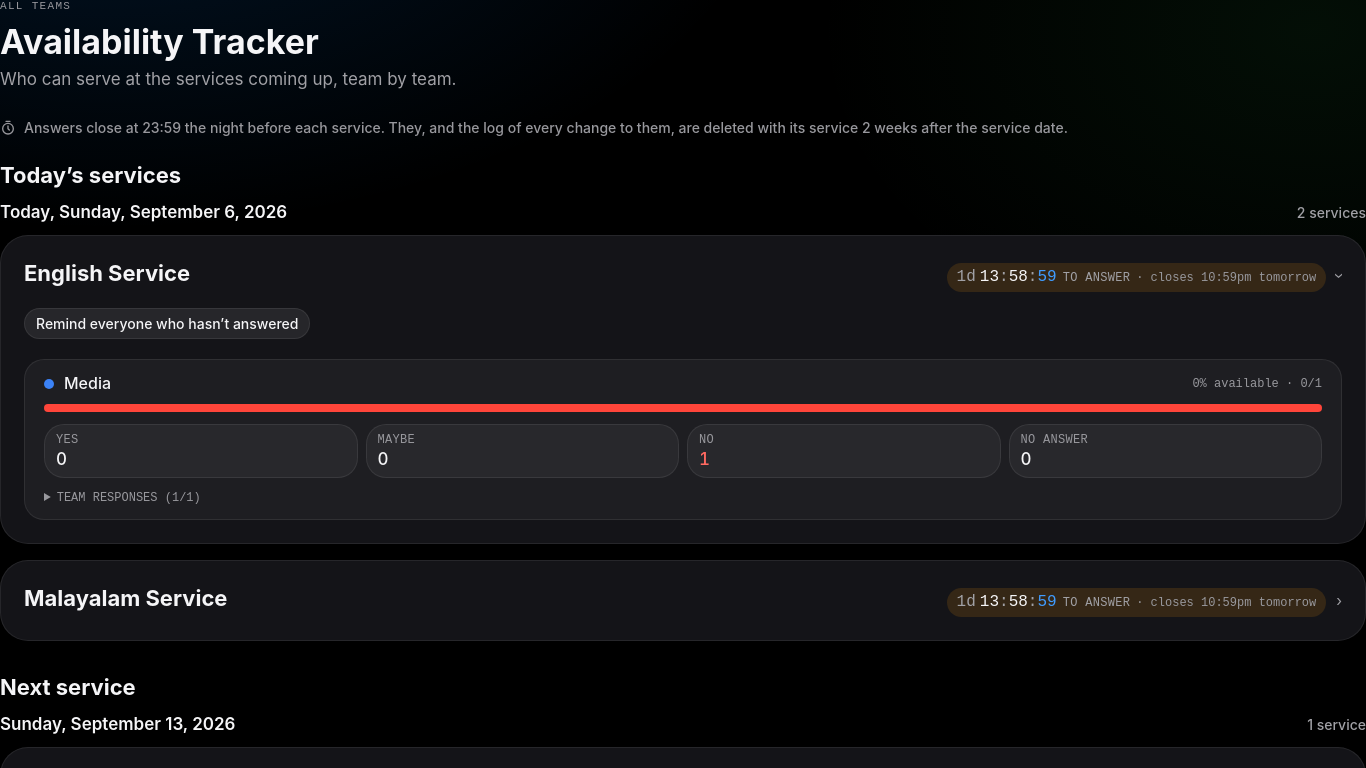
Test case: the history of somebody’s answer › lets an Admin open it under the person’s name: what, when, and who
The width and height of the screenshot is (1366, 768).
Click the heading "Team responses (1/1)" at (129, 498), box 57,491 -> 201,505
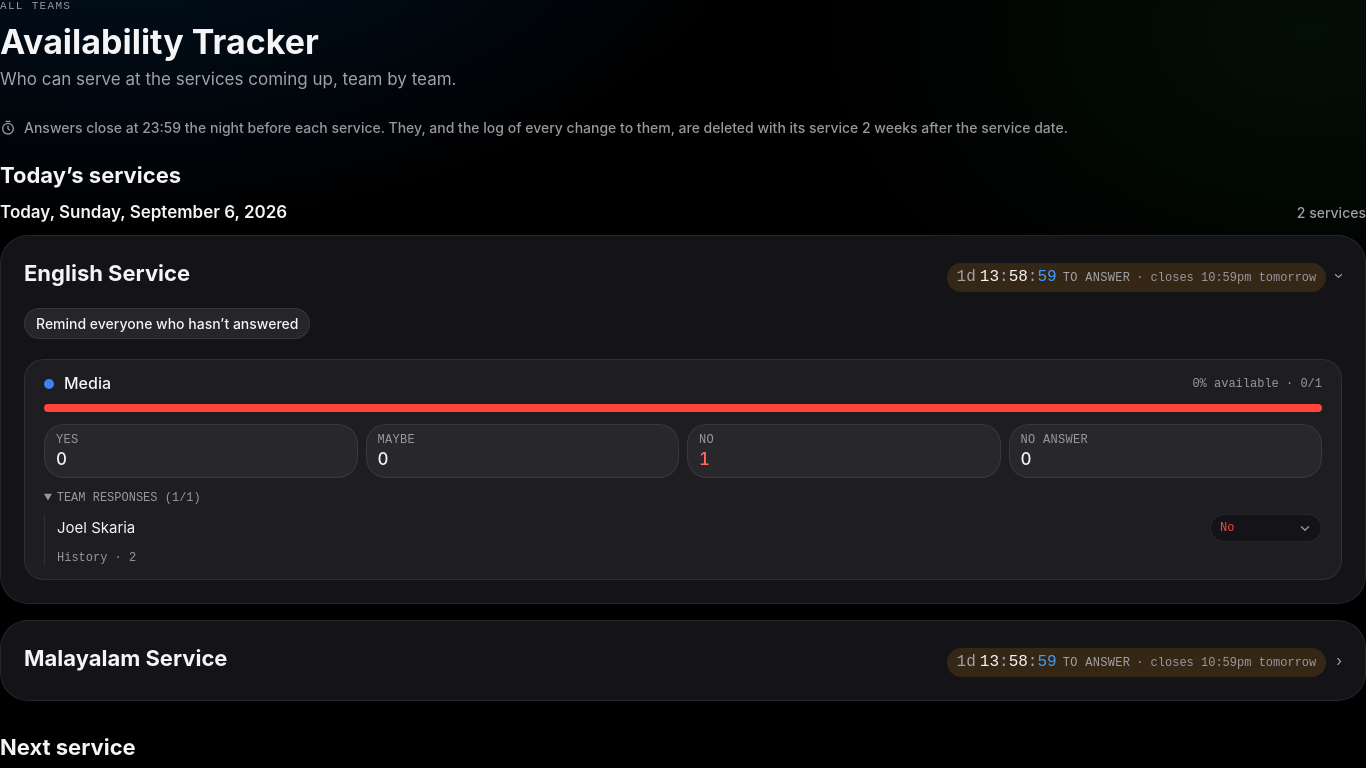
Click the button "History · 2" at (97, 558), box 57,550 -> 136,566
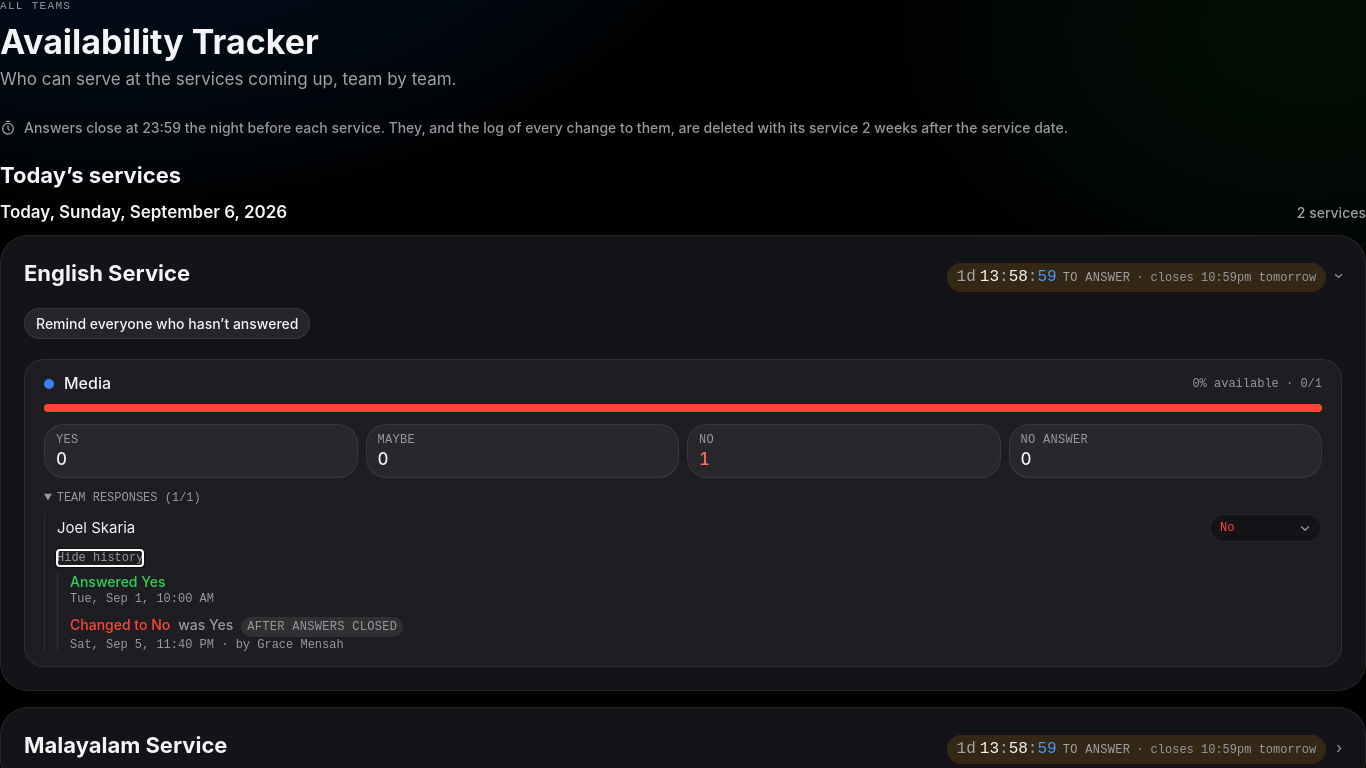
Check: the list item "Answered Yes Tue, Sep 1, 10:00 AM" is shown, box 70,573 -> 214,606
Check: the list item that starts with "Changed to No" is shown, box 70,616 -> 170,633
Check: the list item that starts with "Changed to No" shows "was Yes", box 178,616 -> 233,633
